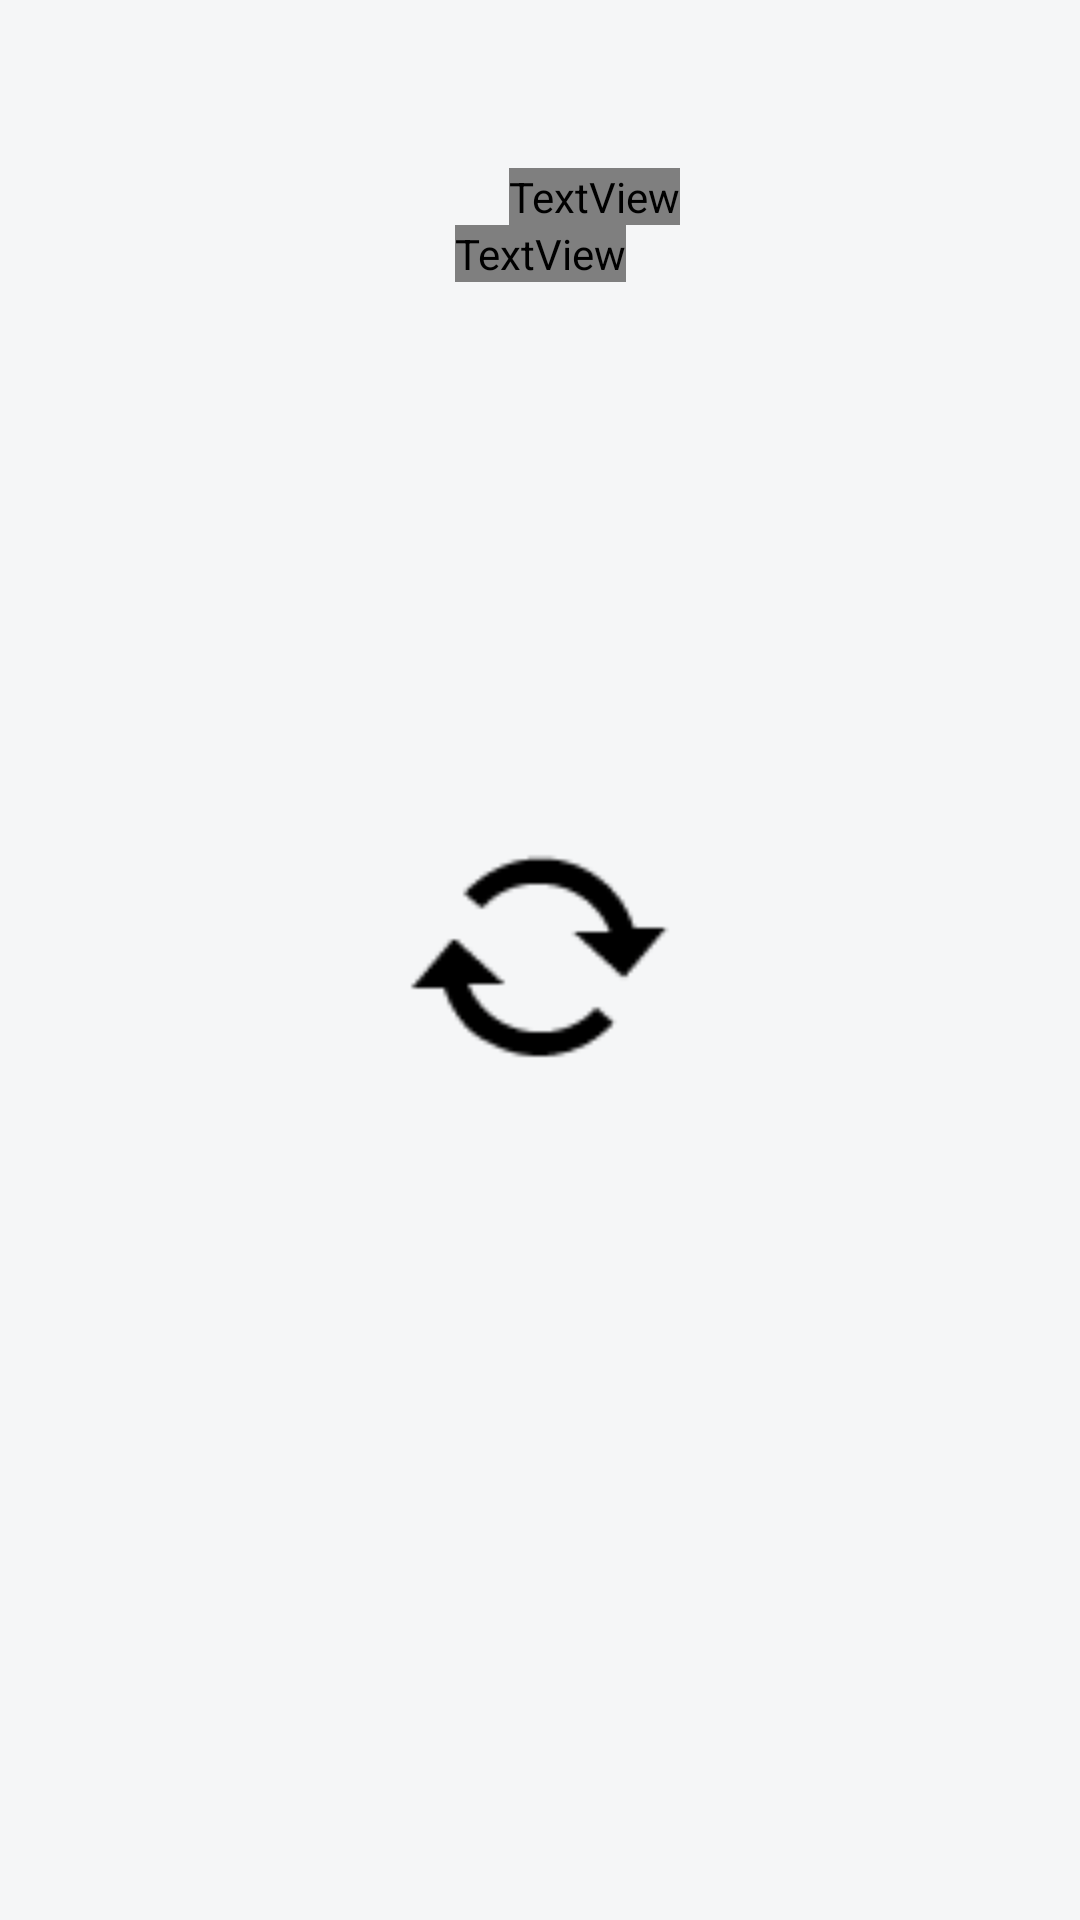

Where icons sit on this 1080px x 1920px app screen, as (x1, y1, x2, y2):
loader: (411, 856, 668, 1058)
